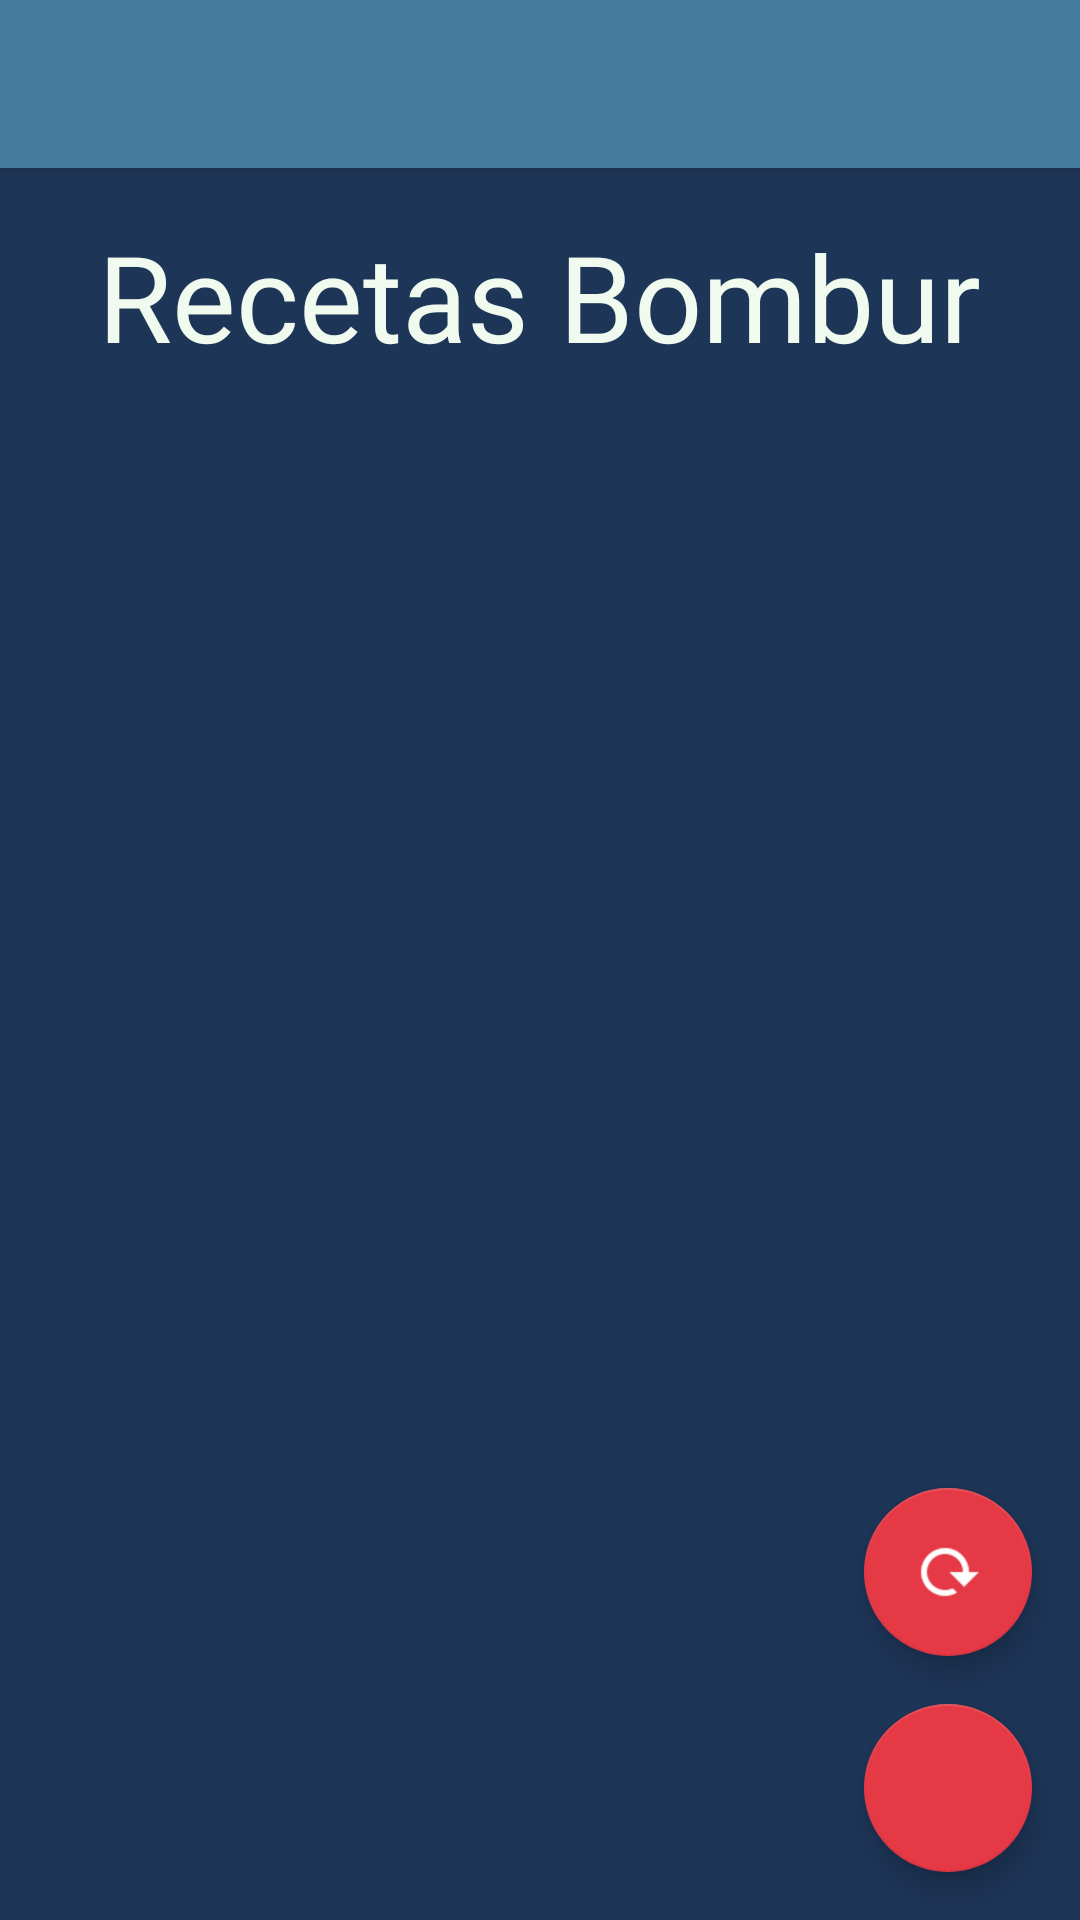

Screen size 1080×1920. Icon name, then its center in pixels as (x=x, y=y):
reload icx: (x=948, y=1572)
